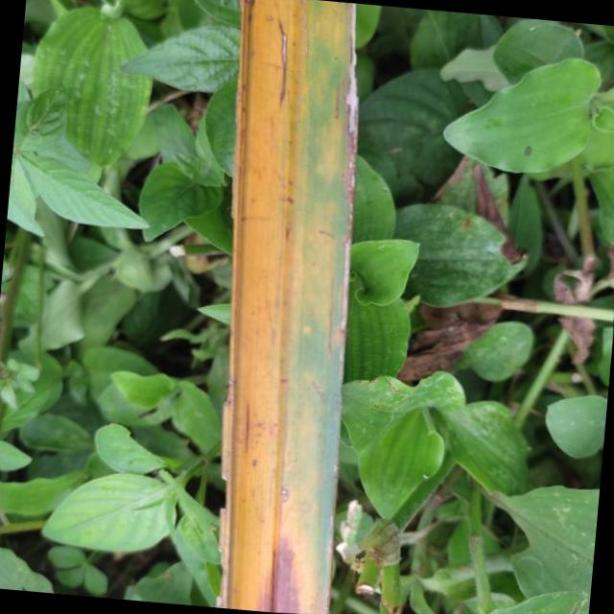Megnesium: (216, 0, 361, 614)
